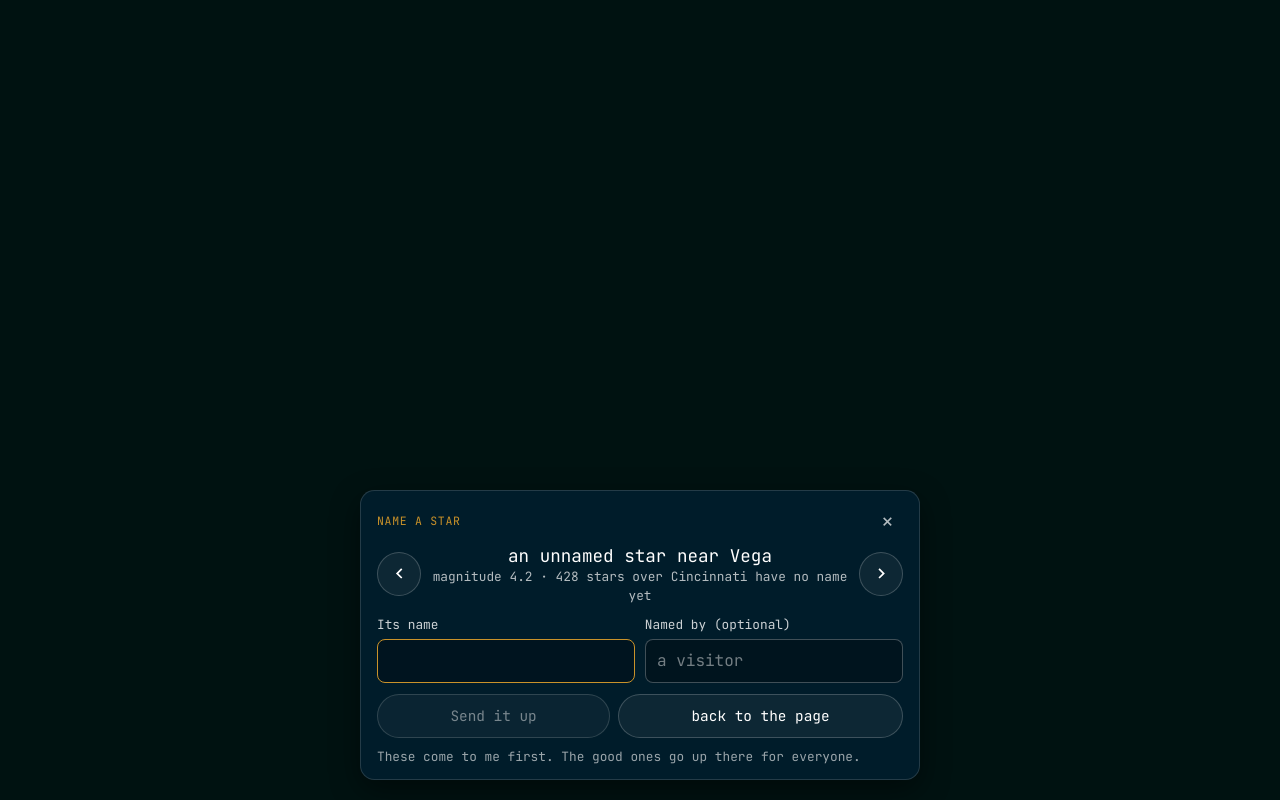
StarNamingComponent › submitting the form sends the suggestion and shows the sent state, focusing "name another"
Type " Gerald " into the field with id "star-name" at (506, 661), box [377,639,635,683]
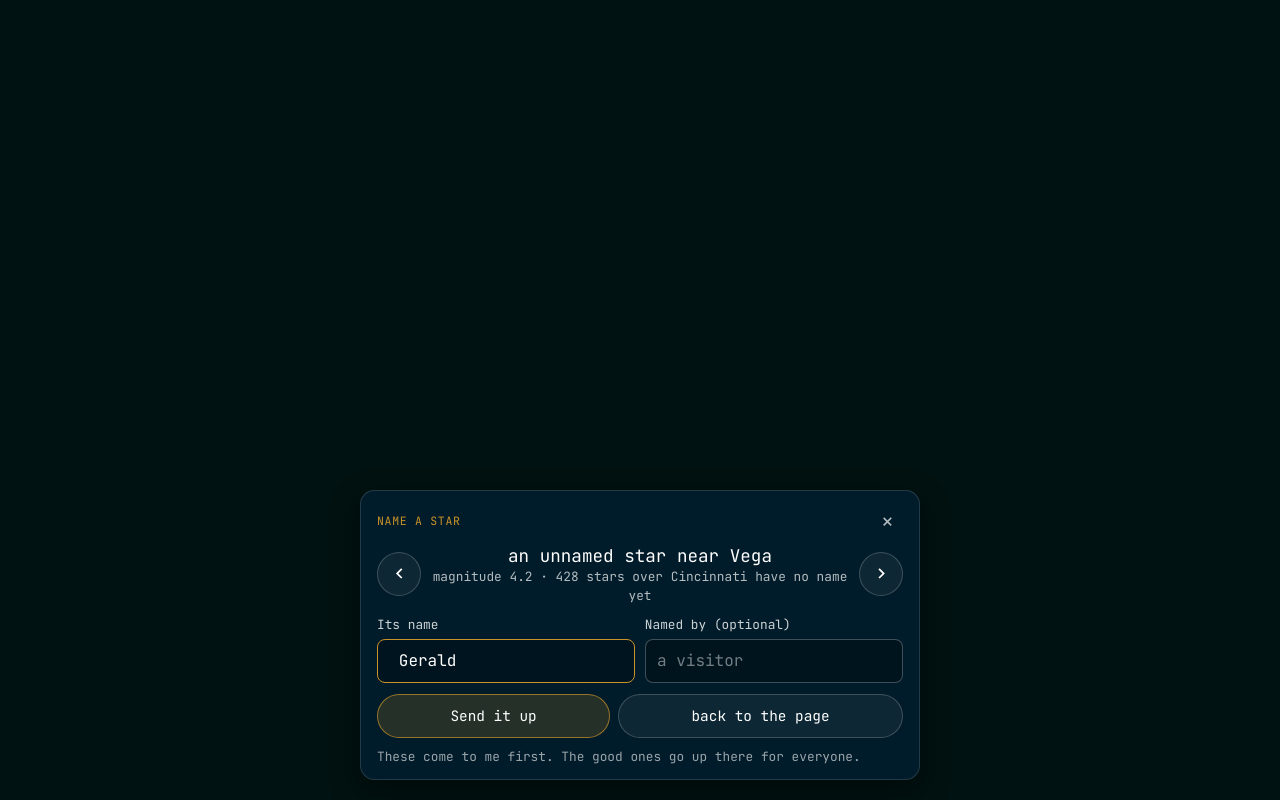
Type "sam" into the field with id "star-credit" at (774, 661), box [645,639,903,683]
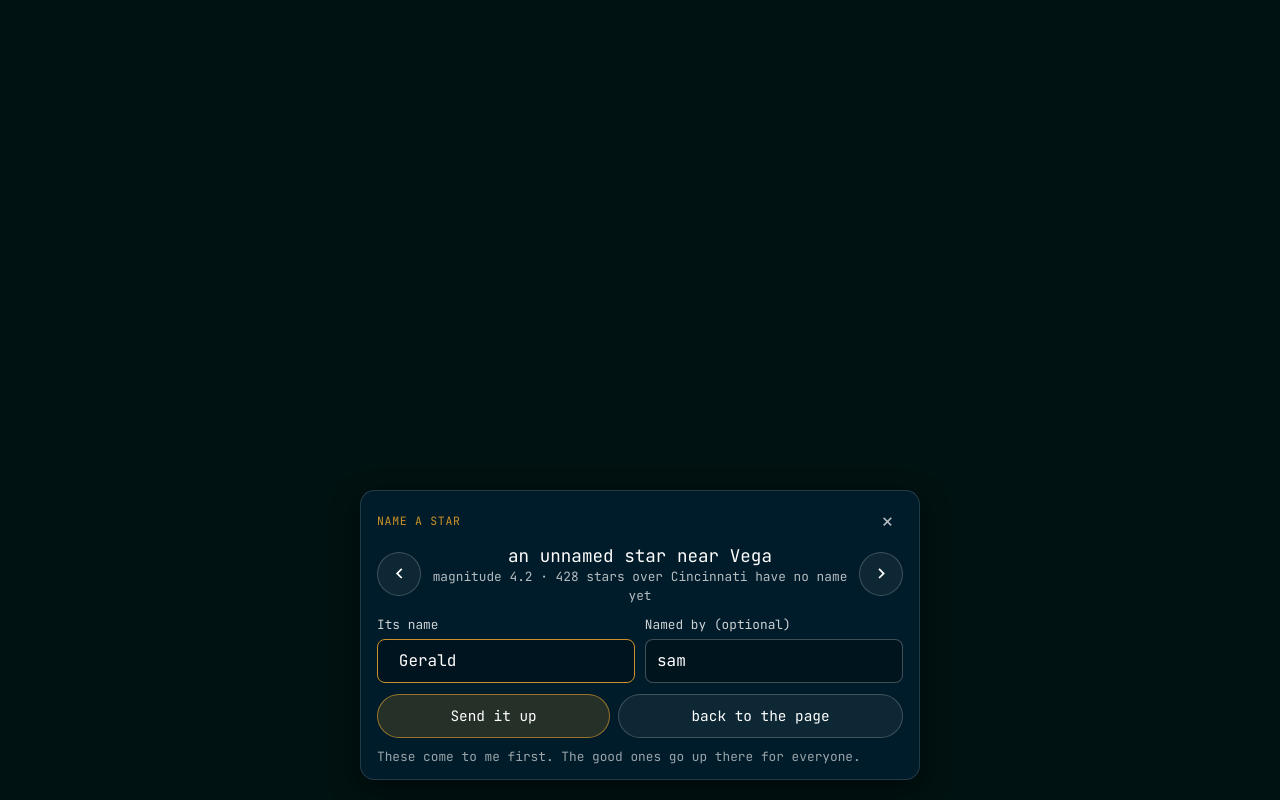
Submit the form, box [377,616,903,766]
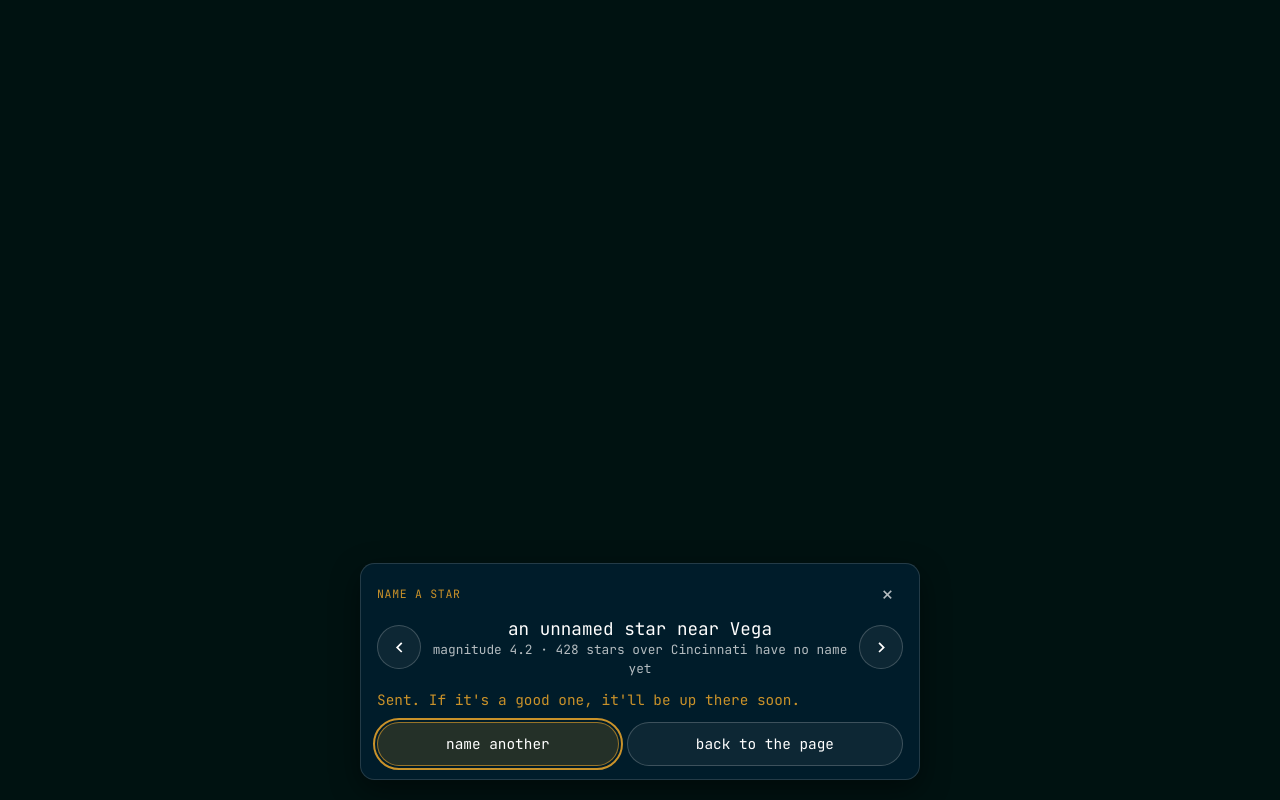
Now the form is gone
Now the button "name another" is shown, box [377,722,619,766]
